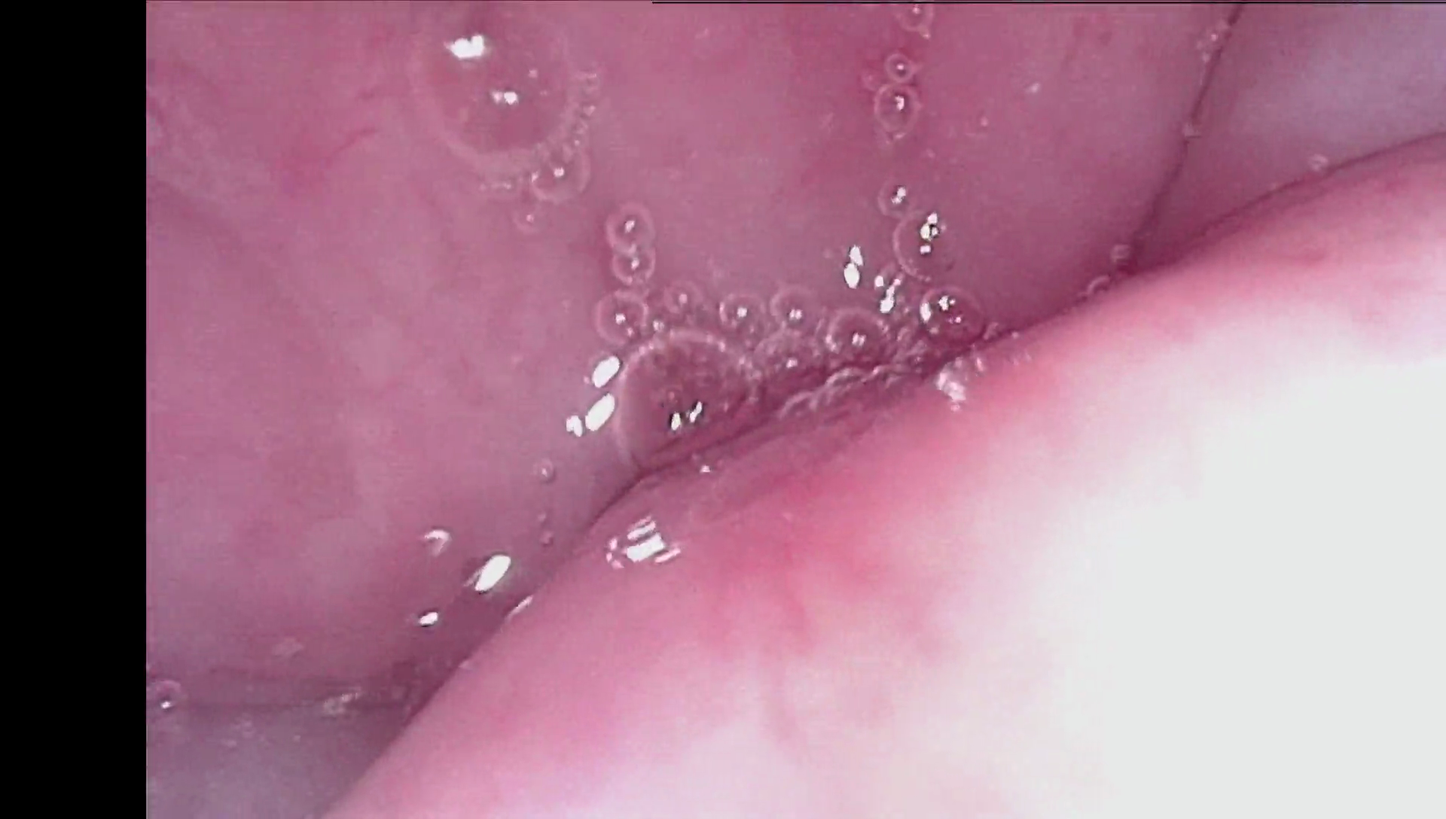close_wall: (576, 188, 1446, 819)
